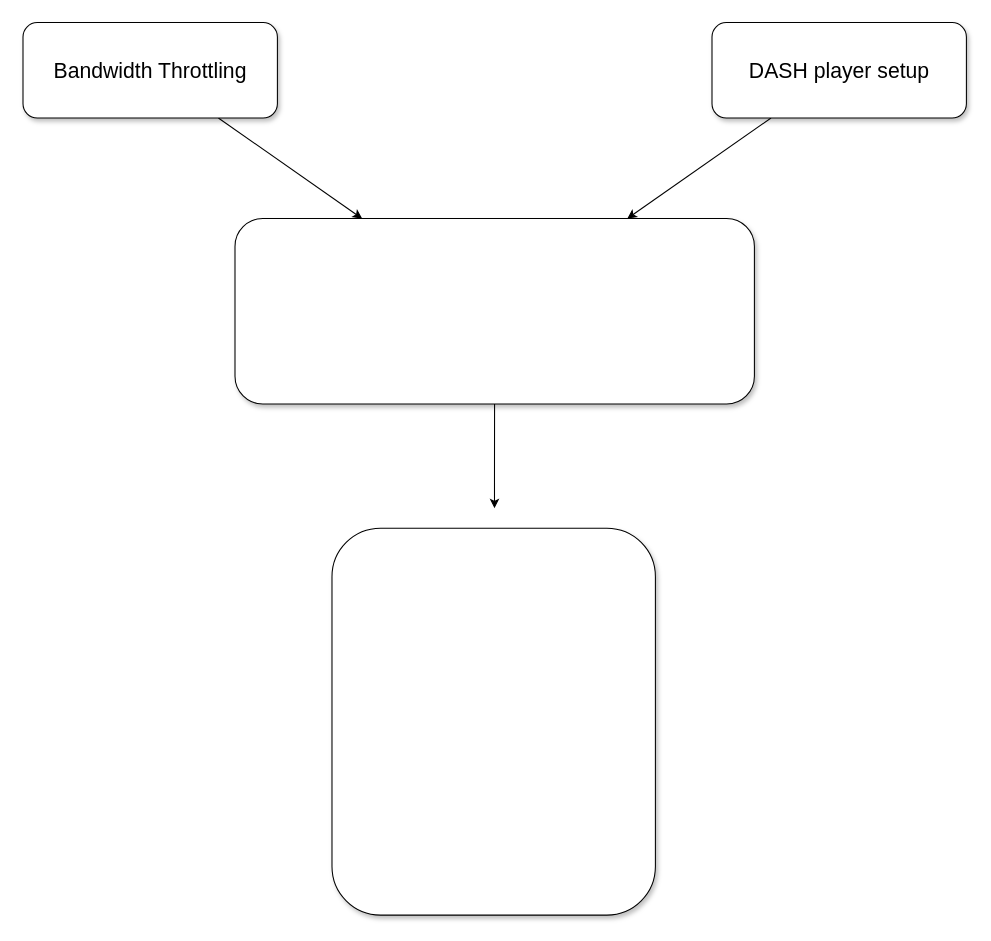
This 991x941 diagram has some shape labels left out. The centre of each missing label's shape, as x and y in pixels:
"Evaluation of QOE metrics for DASH through trace driven emulation" belongs at point 494,723.
"Trace driven DASH streaming" belongs at point 495,312.
